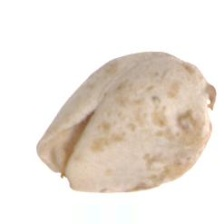L1: (36, 113, 95, 187), (190, 61, 217, 129)
L2: (36, 51, 217, 193)
